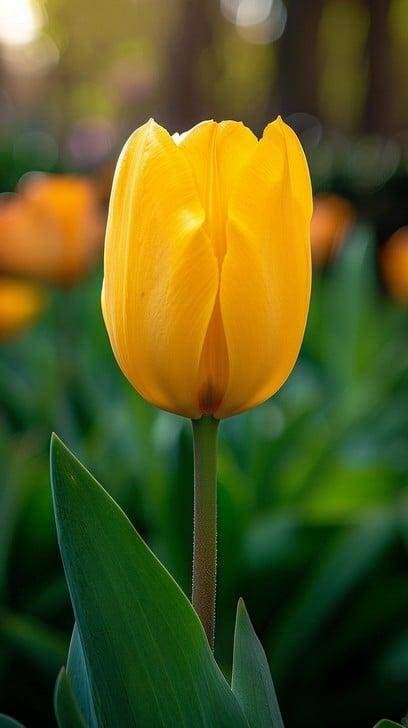tulip: (99, 114, 314, 422)
